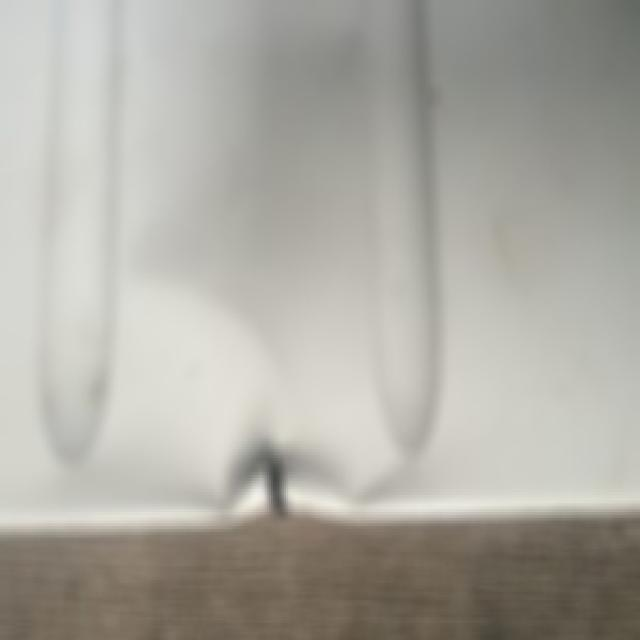crack: (252, 435, 301, 521)
